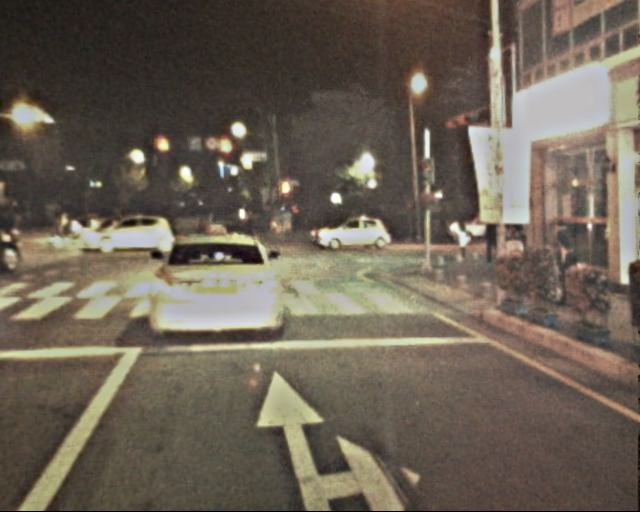person: (550, 216, 578, 296), (483, 212, 505, 266), (452, 218, 473, 267), (287, 206, 314, 229), (81, 201, 96, 237), (57, 202, 71, 237), (192, 208, 206, 241), (206, 210, 217, 238), (244, 213, 255, 239)
